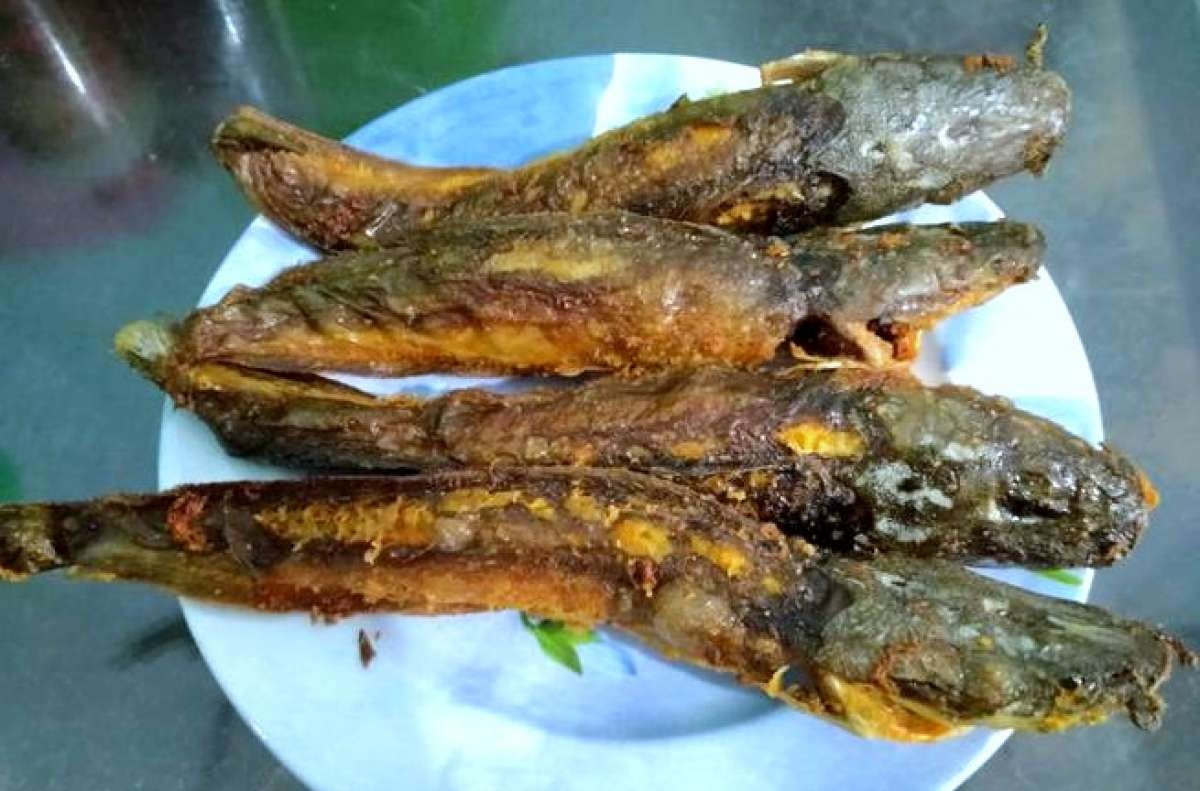pecel_lele: (5, 474, 1177, 748), (101, 342, 1181, 580), (73, 196, 1068, 388), (200, 42, 1091, 239)
